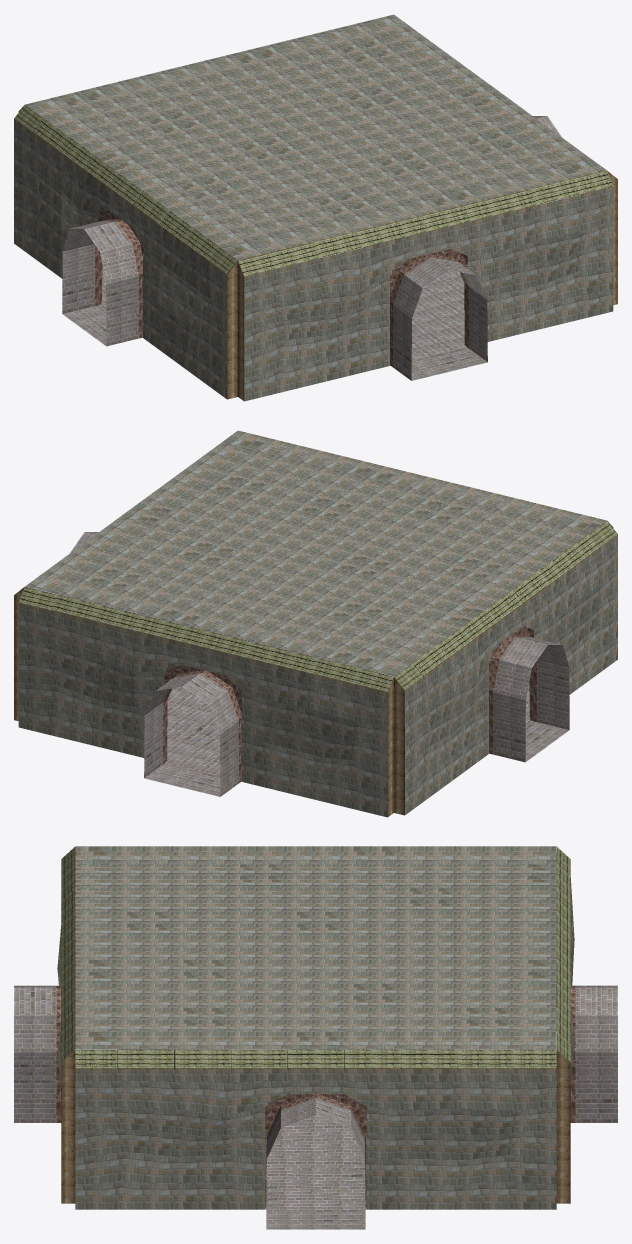
Rendered from map50MNSEW.fbx.
The picture shows the model from 3 angles, top to bottom: view 1: azimuth 30°, elevation 25°; view 2: azimuth 150°, elevation 25°; view 3: azimuth 270°, elevation 25°; orthographic projection. The views are drawn at different scales.
Visible parts, largest first — view 1: map50MNSW_Layer1_roof, map50MNSW_Layer1_far, map50MNSW_Layer1_far1, map50MNSW_Layer2, map50MNSW_Layer8, map50MNSW_Layer3, map50MNSW_Layer1_floor2, map50MNSW_Layer6, map50MNSW_Layer5, map50MNSW_Layer9; view 2: map50MNSW_Layer1_roof, map50MNSW_Layer1_near, map50MNSW_Layer1_far1, map50MNSW_Layer2, map50MNSW_Layer8, map50MNSW_Layer3, map50MNSW_Layer1_floor2, map50MNSW_Layer6, map50MNSW_Layer5, map50MNSW_Layer9; view 3: map50MNSW_Layer1_roof, map50MNSW_Layer1_left, map50MNSW_Layer3, map50MNSW_Layer2, map50MNSW_Layer1_floor2, map50MNSW_Layer6, map50MNSW_Layer5, map50MNSW_Layer1_near.
Boxes of the visible parts, x1,y1,x2,y2 form: map50MNSW_Layer1_roof: (25, 14, 606, 260); map50MNSW_Layer1_far: (244, 186, 613, 401); map50MNSW_Layer1_far1: (14, 119, 226, 398); map50MNSW_Layer2: (14, 105, 613, 276); map50MNSW_Layer8: (62, 221, 138, 346); map50MNSW_Layer3: (393, 116, 561, 380); map50MNSW_Layer1_floor2: (99, 267, 466, 365); map50MNSW_Layer6: (18, 106, 617, 400); map50MNSW_Layer5: (390, 249, 468, 366); map50MNSW_Layer9: (94, 210, 142, 338); map50MNSW_Layer1_roof: (25, 430, 606, 676); map50MNSW_Layer1_near: (18, 602, 387, 817); map50MNSW_Layer1_far1: (405, 535, 617, 814); map50MNSW_Layer2: (18, 521, 617, 692); map50MNSW_Layer8: (493, 637, 569, 762); map50MNSW_Layer3: (70, 532, 238, 796); map50MNSW_Layer1_floor2: (165, 683, 532, 781); map50MNSW_Layer6: (14, 522, 613, 816); map50MNSW_Layer5: (163, 665, 241, 782); map50MNSW_Layer9: (489, 626, 537, 754); map50MNSW_Layer1_roof: (75, 846, 556, 1049); map50MNSW_Layer1_left: (75, 1068, 556, 1209); map50MNSW_Layer3: (14, 985, 617, 1229); map50MNSW_Layer2: (61, 847, 570, 1068); map50MNSW_Layer1_floor2: (265, 1115, 366, 1209); map50MNSW_Layer6: (61, 1050, 570, 1203); map50MNSW_Layer5: (56, 985, 575, 1207); map50MNSW_Layer1_near: (570, 877, 574, 1084).
Size of the model in its own units: 1 by 0.2812 by 1.
